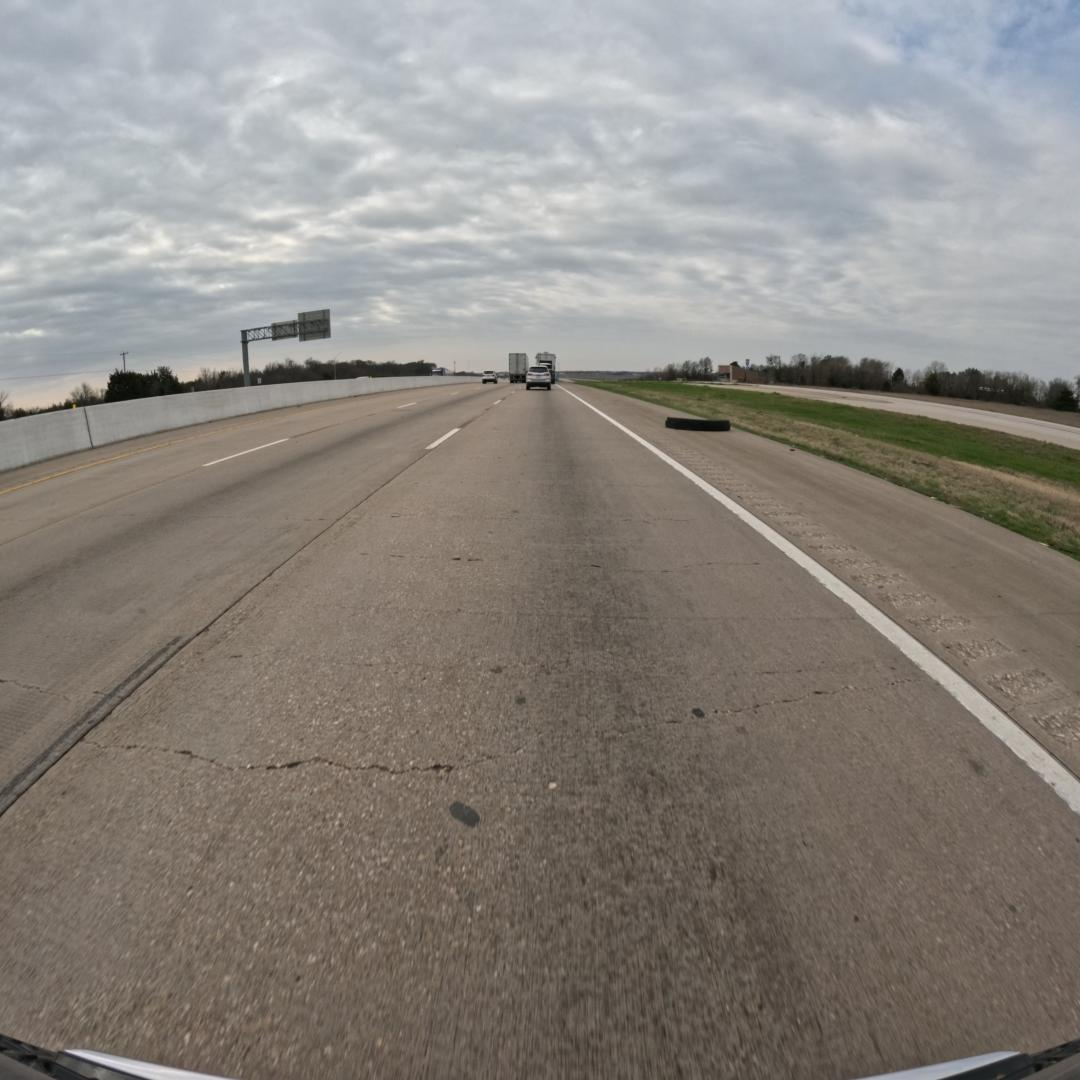lane0: (0, 391, 1080, 1077)
lane1: (0, 385, 518, 814)
